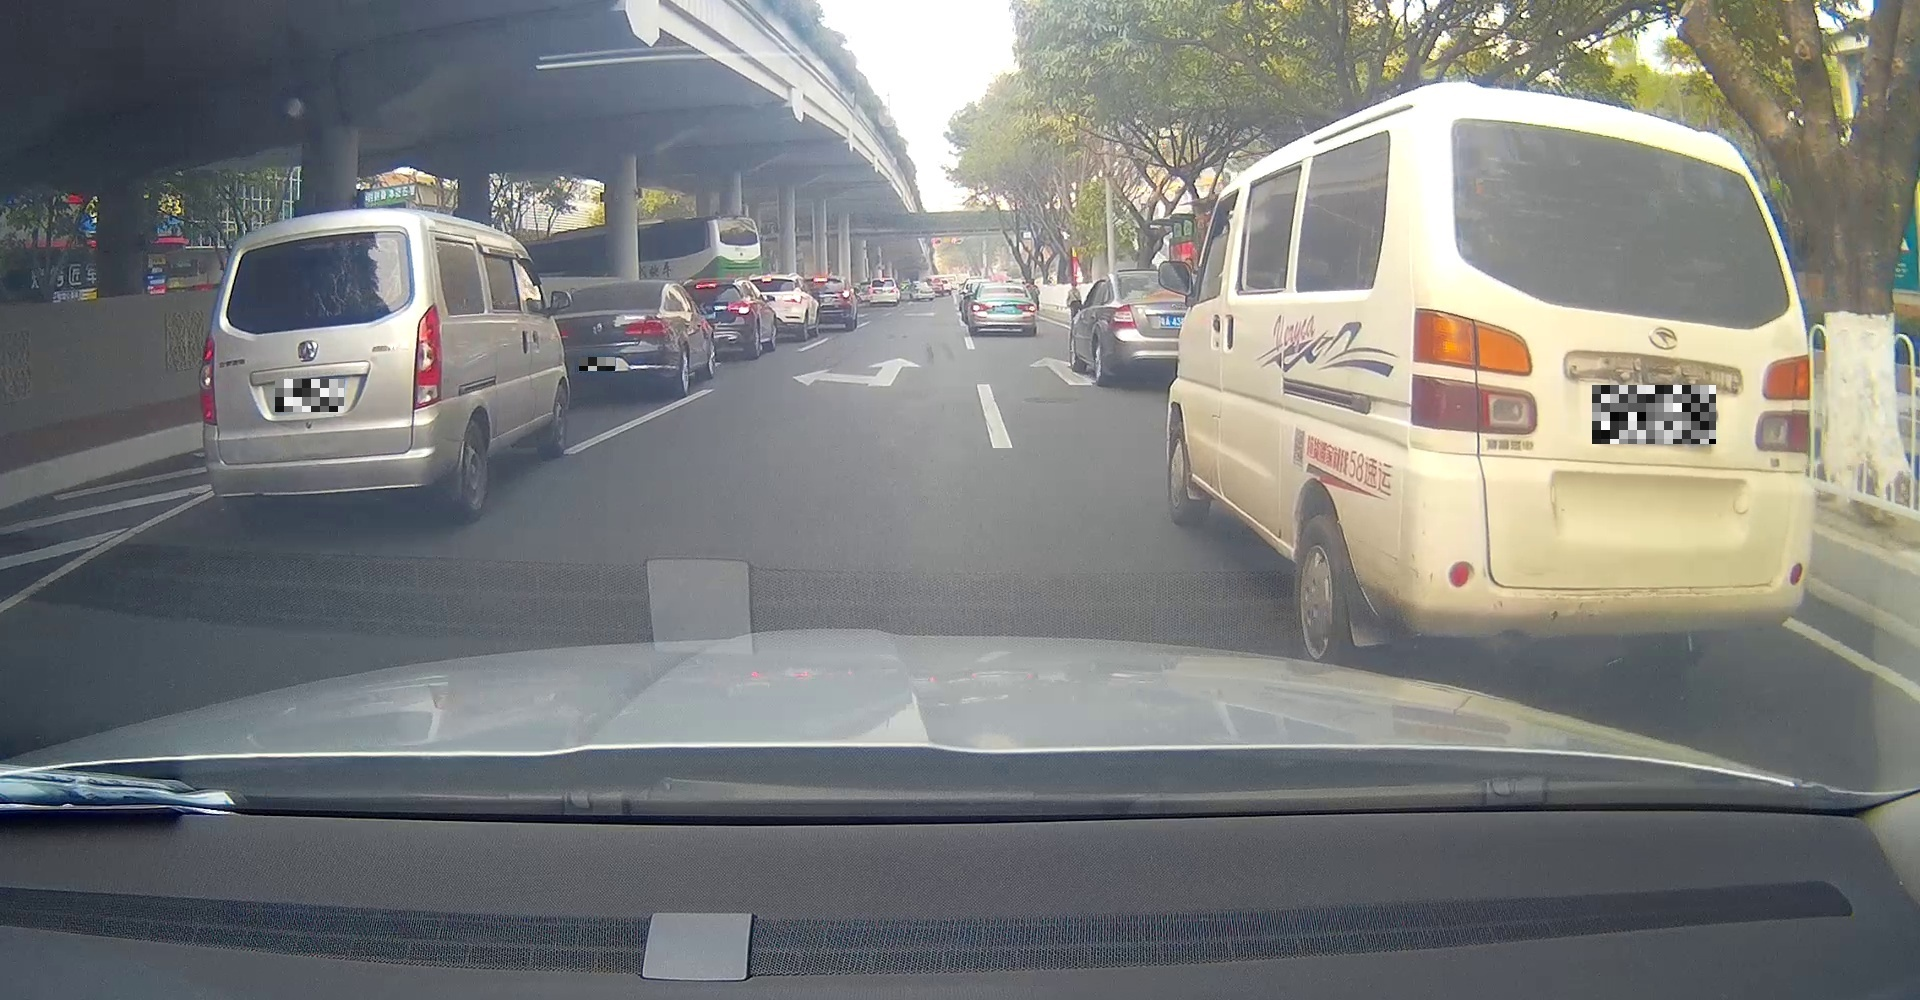L_light: (1410, 308, 1537, 437), (199, 335, 218, 425), (971, 302, 990, 312)
R_light: (1752, 353, 1812, 456), (413, 303, 443, 410), (1017, 303, 1036, 312)
T_light: (1603, 135, 1661, 155), (298, 237, 335, 249), (999, 288, 1007, 291)
day-brake: (971, 282, 1036, 336)
day-no: (1398, 80, 1817, 681), (196, 208, 448, 527)
plate_1: (579, 357, 615, 371)
plate_2: (276, 379, 344, 412)
plate_3: (1592, 385, 1716, 444)
